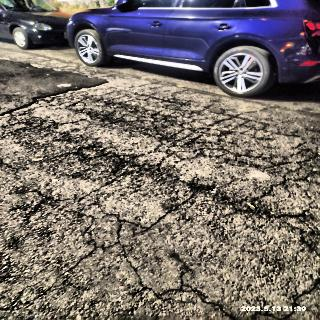alligator-crack: (231, 132, 316, 208), (162, 110, 246, 162)
crack: (44, 175, 163, 249), (126, 266, 230, 316), (54, 124, 110, 165)
